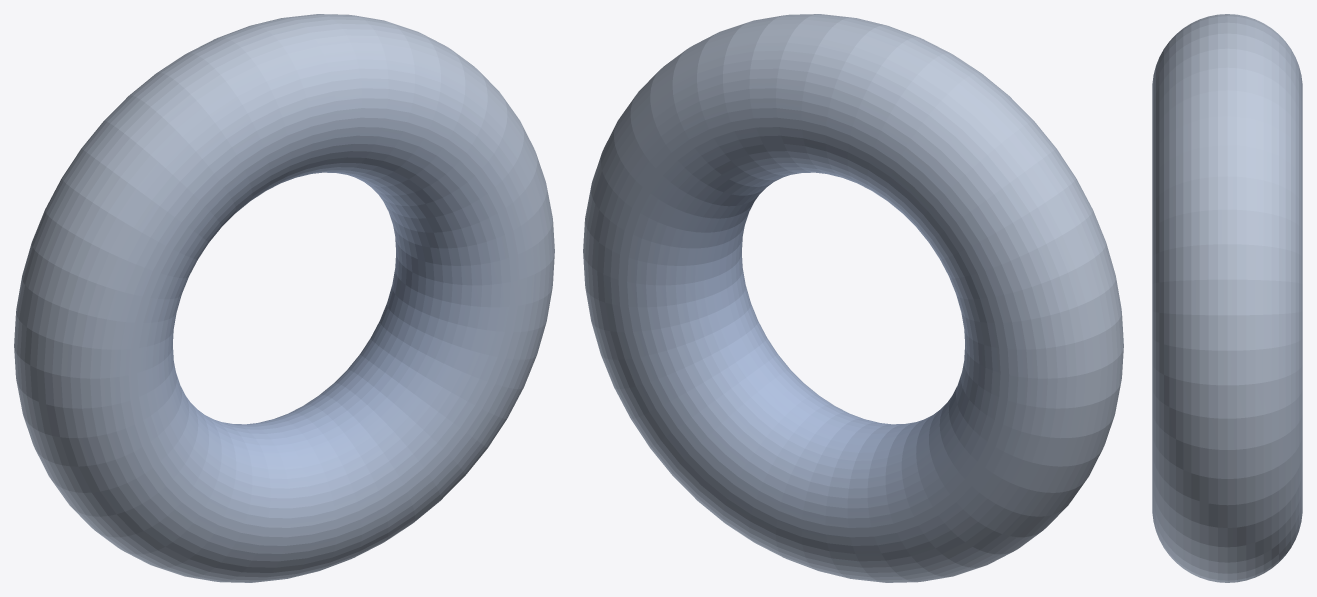
The picture shows the model from 3 angles, left to right: view 1: azimuth 30°, elevation 25°; view 2: azimuth 150°, elevation 25°; view 3: azimuth 270°, elevation 25°; orthographic projection. The views are drawn at different scales.
Visible parts, largest first — view 1: world; view 2: world; view 3: world.
Part boxes in pixels (x1,y1,x2,y2): world: [14, 14, 554, 582]; world: [583, 14, 1123, 582]; world: [1152, 14, 1302, 582].
Bounding box in the file's own units: 22.67 × 22.62 × 5.99.
